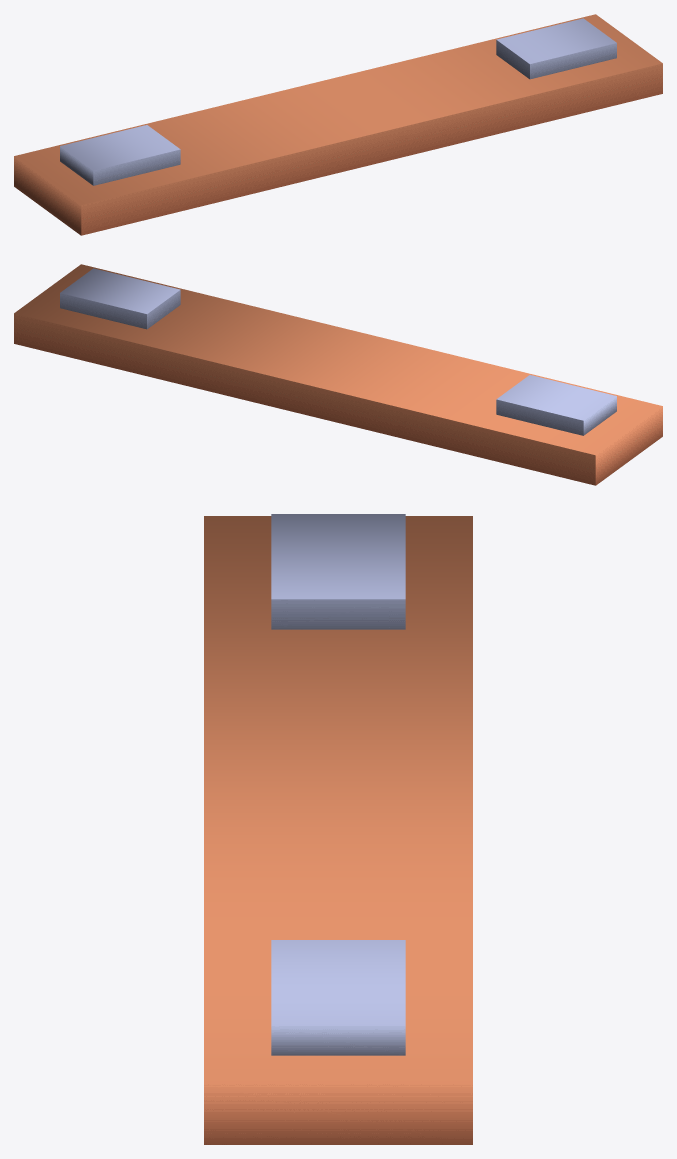
The model's file is track-segment.glb.
3 views of the same model, one above another, from view 1: azimuth 30°, elevation 25°; view 2: azimuth 150°, elevation 25°; view 3: azimuth 270°, elevation 25° (orthographic). The views are drawn at different scales.
Visible parts, largest first — view 1: track-segment; view 2: track-segment; view 3: track-segment.
Part boxes in pixels (x1,y1,x2,y2): track-segment: [14, 14, 662, 235]; track-segment: [14, 264, 662, 485]; track-segment: [204, 514, 472, 1144].
Bounding box in the file's own units: 1 × 0.075 × 0.2.
Materials: 1 (1 with a texture image).
